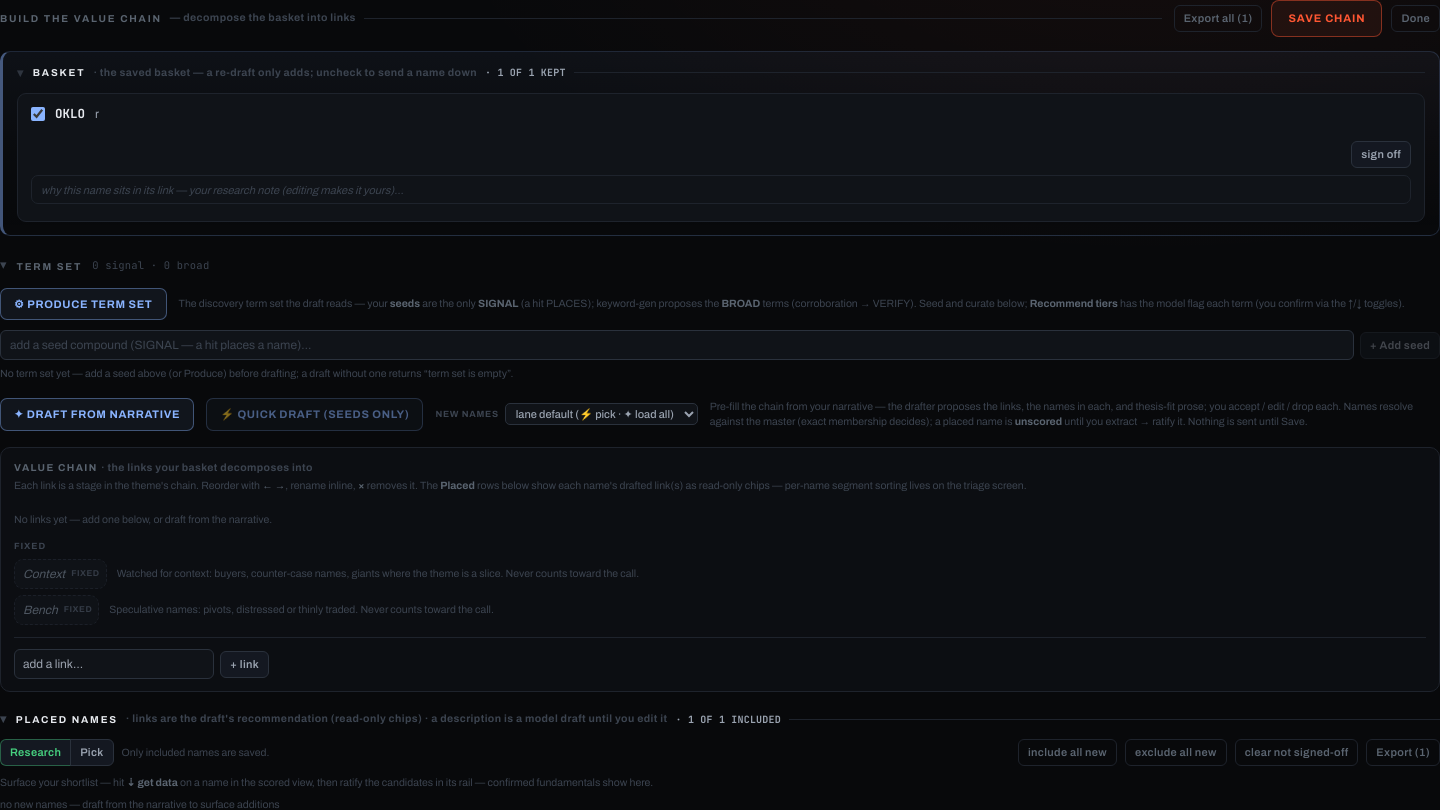
it: ChainEditor — draft from narrative (S5 5c) › loads a PLACED name honestly: model-draft description, sign-off offered, prose editable
Click the button "✦ Draft from narrative" at (97, 414), box [0,398,194,430]
(page scrolled)
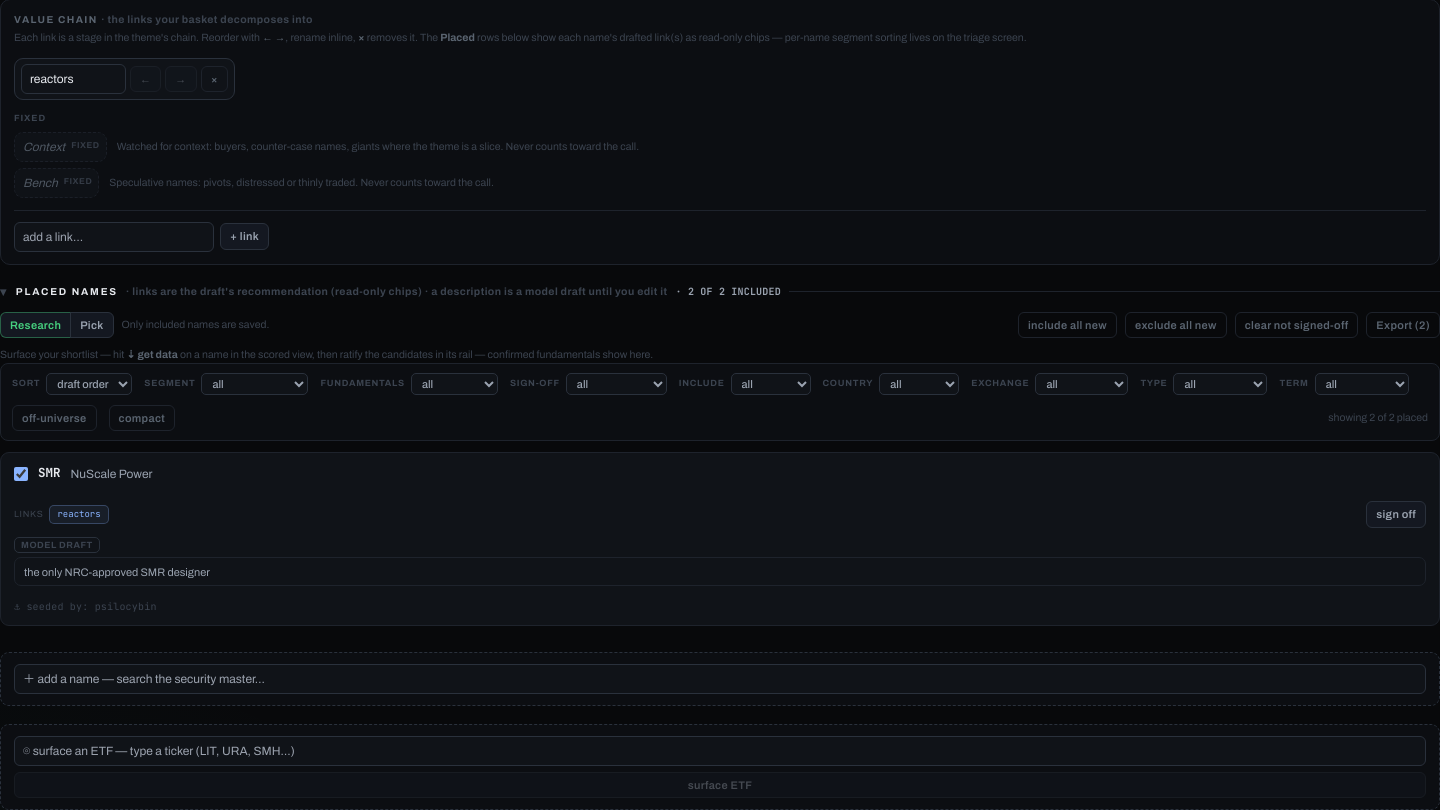
Expected: the checkbox named "include SMR" is shown, [14,467,28,481]
Expected: the button with aria-label "sign off SMR" is shown, [1366,501,1426,528]
Expected: the text box named "thesis-fit for SMR" holds "the only NRC-approved SMR designer", [14,557,1426,586]
